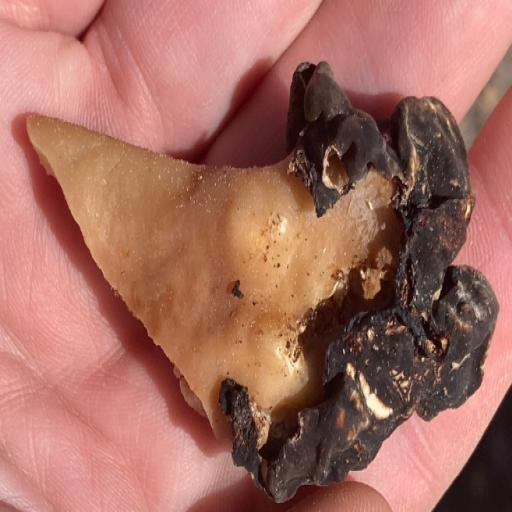False Morel: (28, 38, 512, 512)
